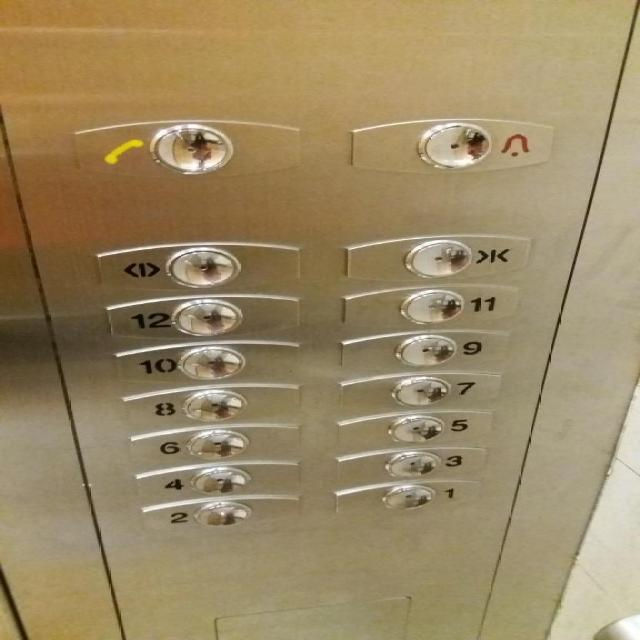1: (330, 475, 484, 515)
10: (110, 339, 301, 382)
11: (340, 282, 520, 327)
12: (100, 292, 301, 339)
2: (137, 494, 301, 528)
3: (331, 444, 489, 480)
4: (131, 459, 301, 495)
5: (332, 409, 494, 444)
7: (333, 369, 502, 408)
8: (117, 382, 301, 422)
9: (337, 328, 510, 368)
G: (126, 422, 301, 459)
alarm: (344, 114, 556, 175)
call: (70, 118, 303, 182)
close: (340, 232, 529, 282)
open: (90, 240, 303, 292)
